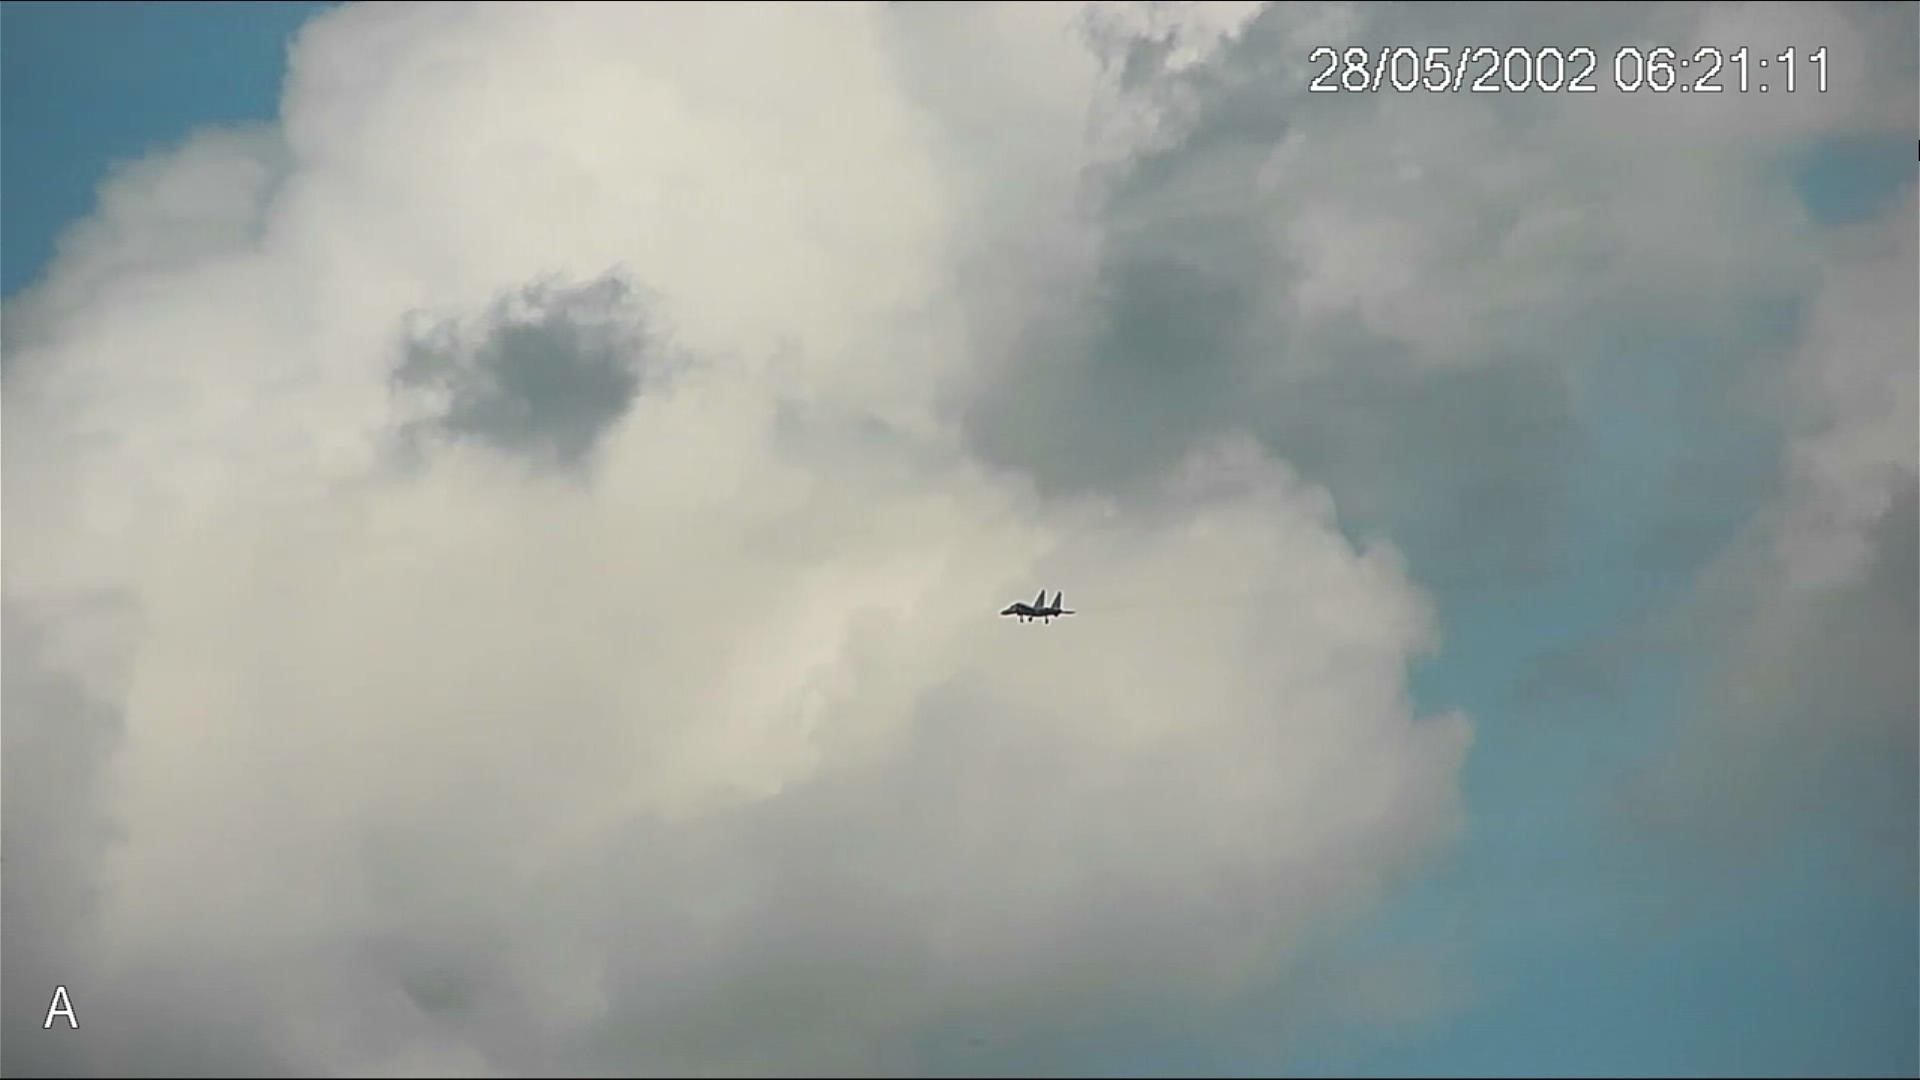SU_30: (986, 587, 1073, 626)
